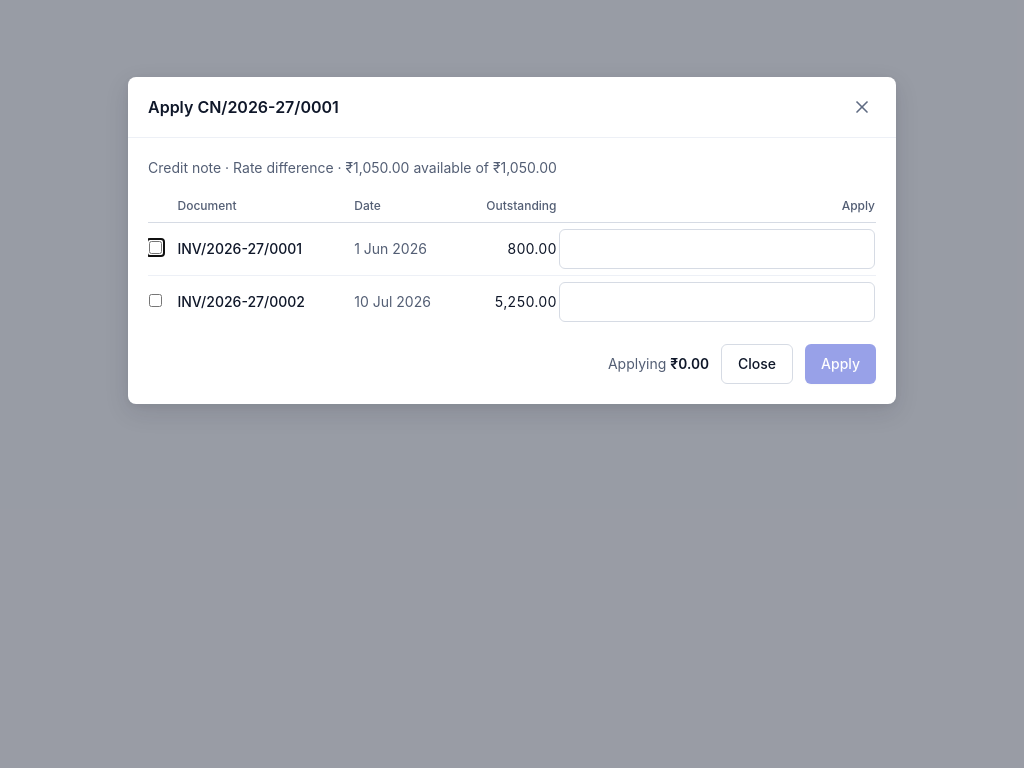
Test: applying a credit › refuses more than the credit has
Click the checkbox named "Apply to INV/2026-27/0002" at (156, 300), box [149,294,162,307]
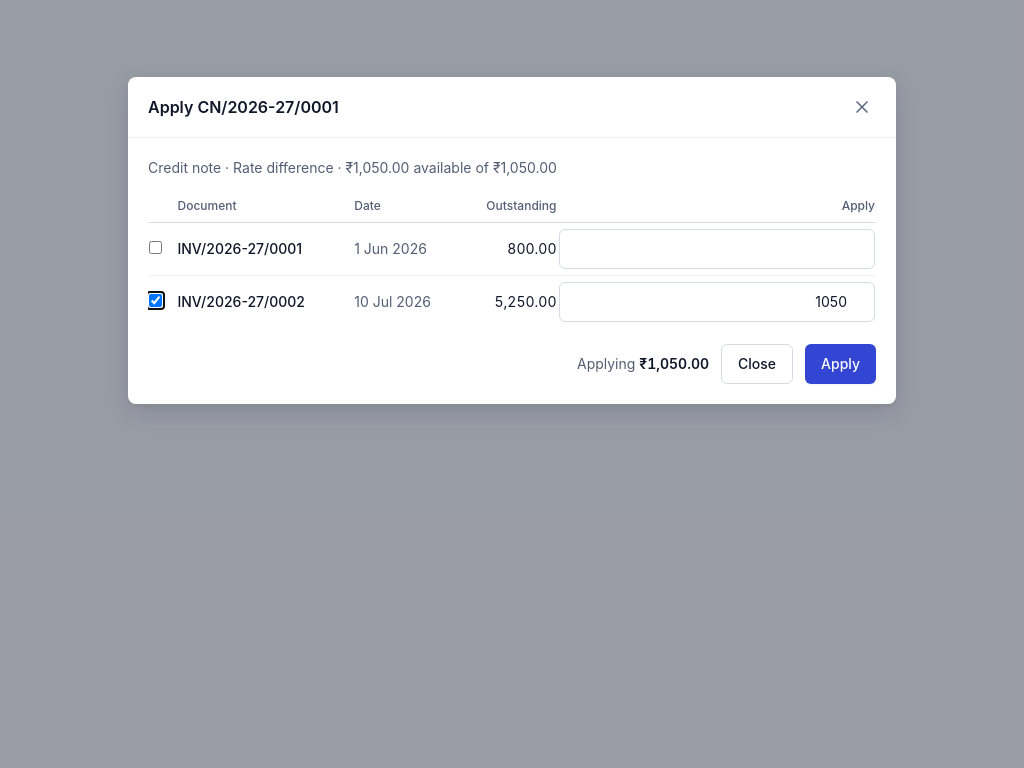
Replace the text in the number field named "Apply amount for INV/2026-27/0002" with "2000" at (717, 302), box [558,282,875,322]
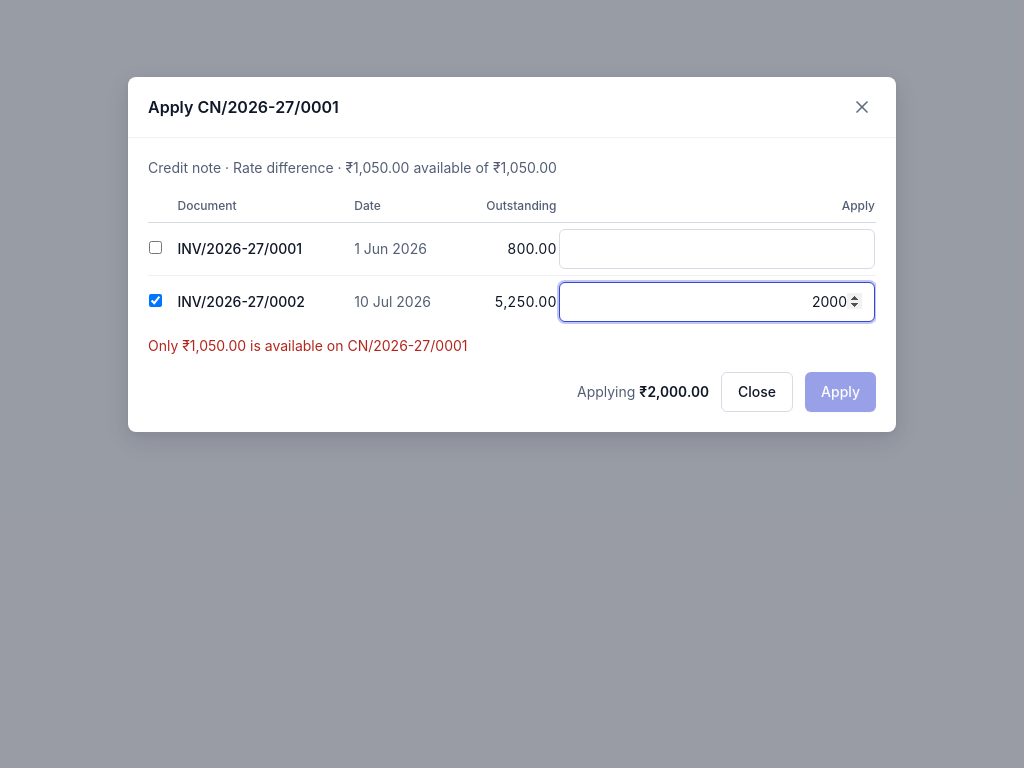
Now the button "Apply" is disabled, box [805,372,876,412]
Now the text "Only ₹1,050.00 is available on CN/2026-27/0001" is shown, box [148,337,468,354]
